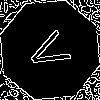V: (25, 25, 81, 75)
